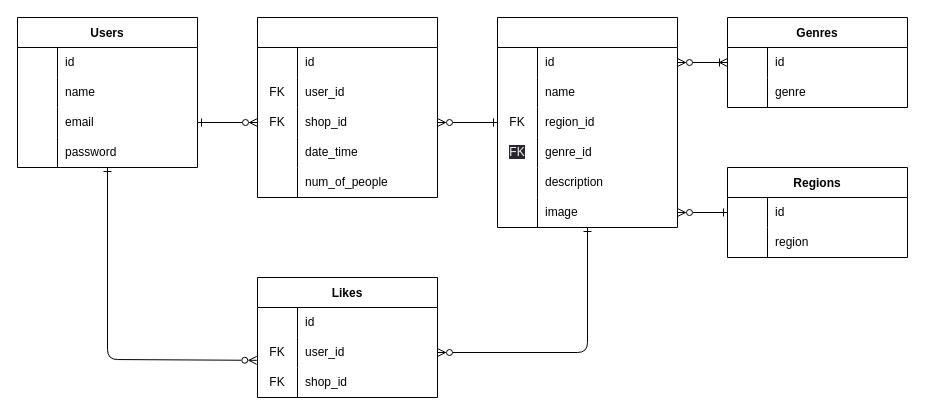
Image size: 925x415. Some labels were removed from this diagram. Each missing label, with the box of its shape:
Reserves: (256, 16, 438, 198)
Shops: (496, 16, 678, 228)
